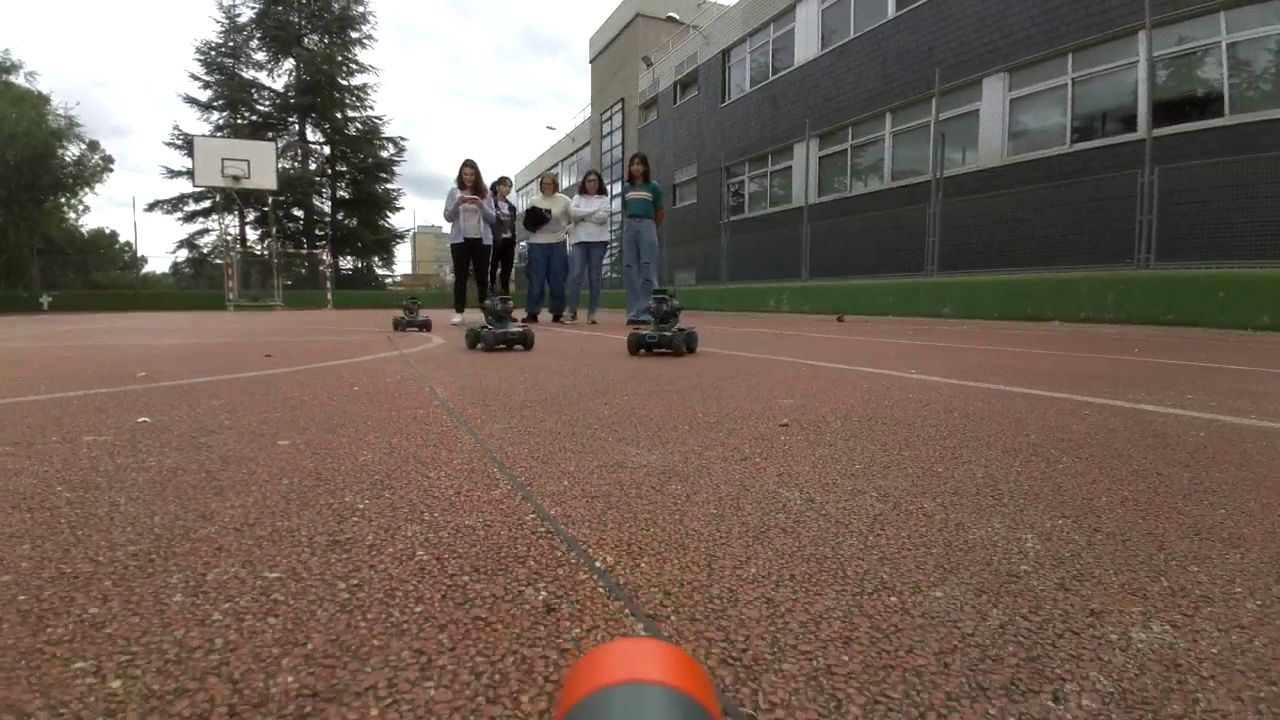robot: (628, 289, 698, 355), (464, 291, 535, 353), (394, 298, 432, 332)
